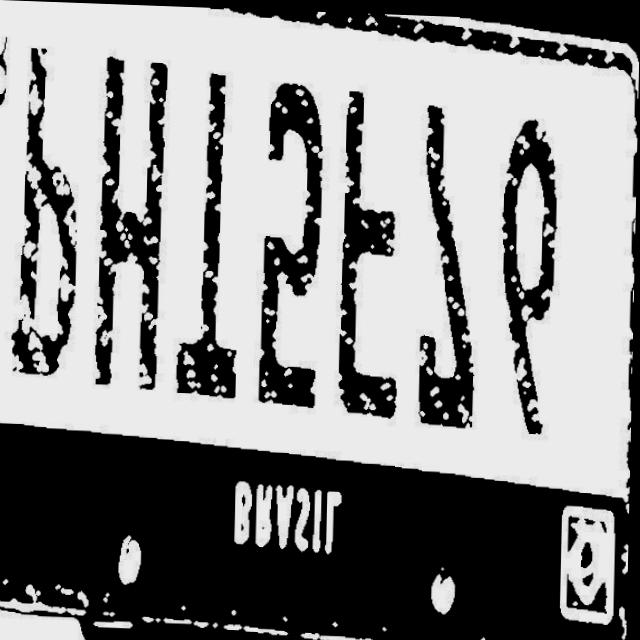5: (247, 78, 329, 403)
6: (491, 118, 572, 443)
7: (408, 96, 491, 432)
f: (328, 89, 410, 417)
h: (81, 46, 175, 376)
p: (9, 41, 85, 374)
t: (174, 58, 249, 391)
